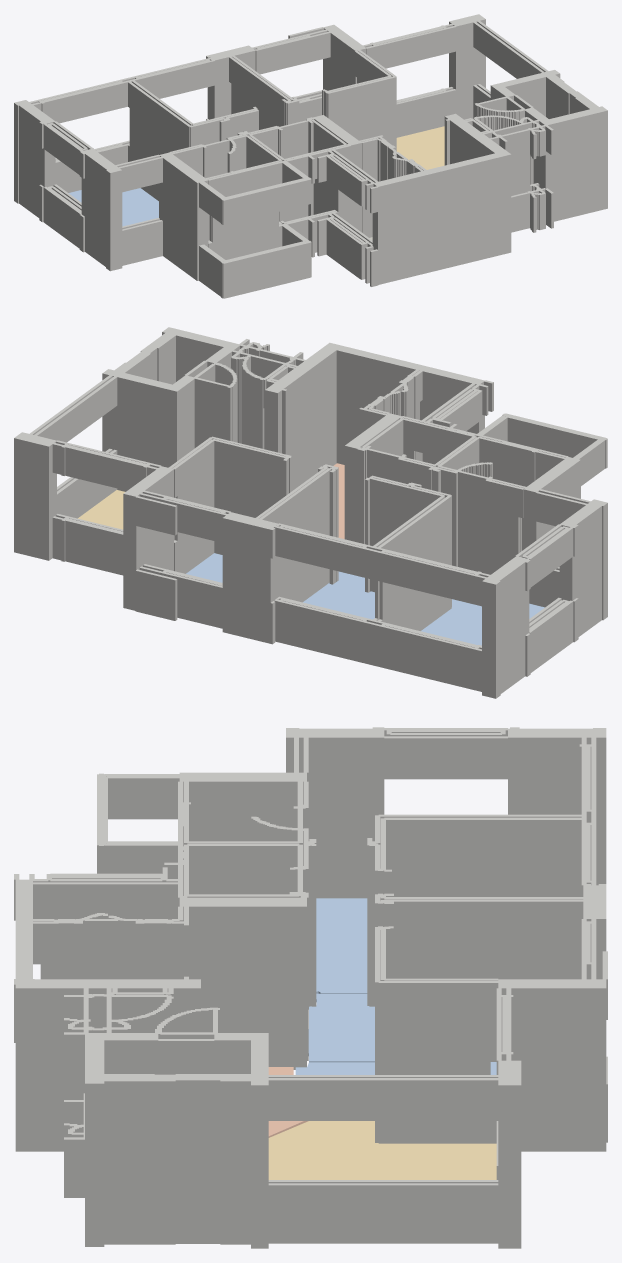
3 renders of one model, top to bottom at view 1: azimuth 30°, elevation 25°; view 2: azimuth 150°, elevation 25°; view 3: azimuth 270°, elevation 25°, orthographic. The views are drawn at different scales.
Visible parts, largest first — view 1: walls, room:living:0, room:bedroom:3; view 2: walls, room:bedroom:2, room:bedroom:3, room:living:0, room:bedroom:1, room:kitchen:6; view 3: walls, room:living:0, room:bedroom:3, room:bedroom:2, room:bedroom:1.
Part boxes in pixels (x1,y1,x2,y2): walls: (14, 14, 607, 298); room:living:0: (396, 126, 444, 169); room:bedroom:3: (69, 188, 158, 226); walls: (14, 327, 607, 698); room:bedroom:2: (303, 571, 374, 619); room:bedroom:3: (421, 599, 544, 645); room:living:0: (78, 490, 124, 529); room:bedroom:1: (186, 553, 222, 582); room:kitchen:6: (333, 463, 344, 539); walls: (14, 727, 607, 1248); room:living:0: (268, 1121, 496, 1179); room:bedroom:3: (316, 898, 367, 993); room:bedroom:2: (308, 993, 374, 1062); room:bedroom:1: (295, 1062, 496, 1074).
Size of the model in its own units: 13.15 by 2.8 by 9.22.
